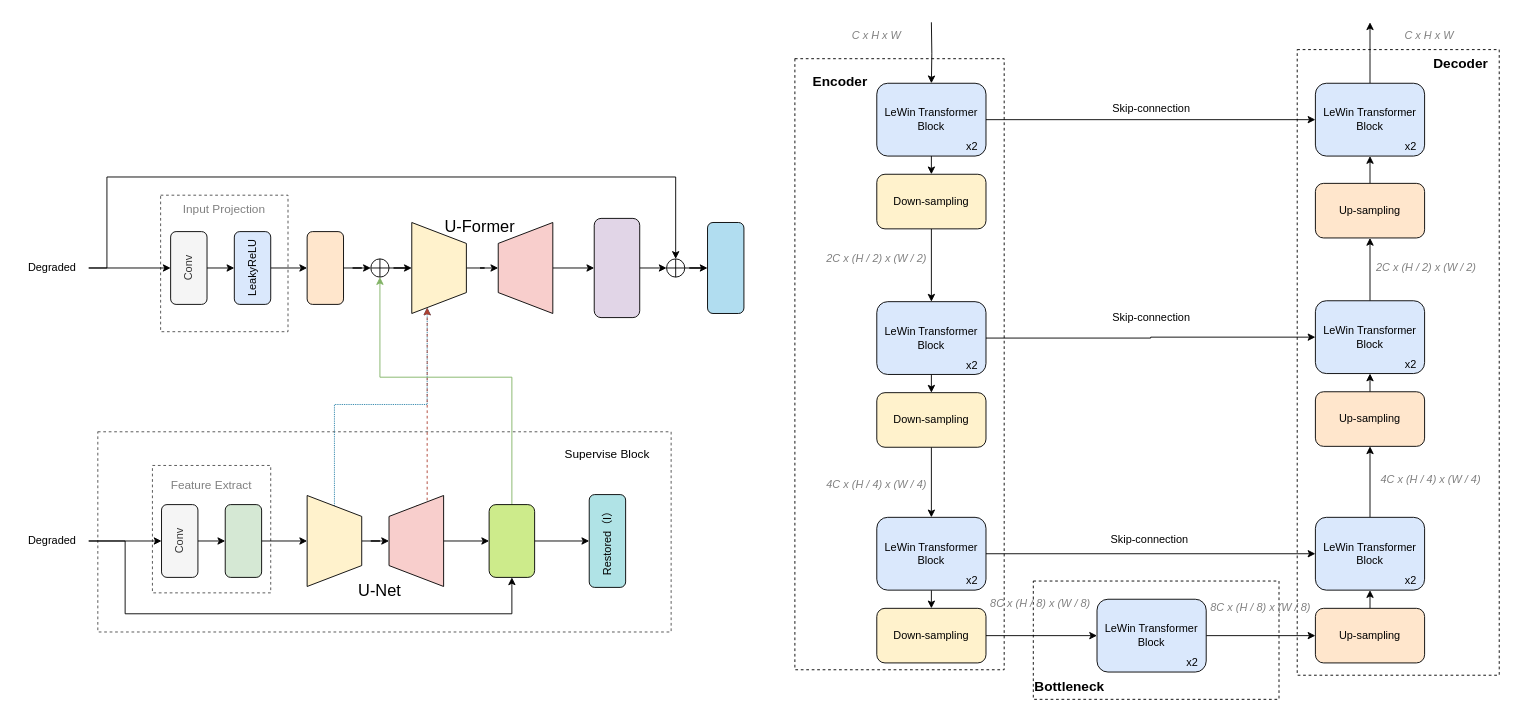
Some shapes in this 1515 by 724 pixel diagram are drawn without their labels. Each missing label, with the centre of its shape:
"CAB" belongs at (243,540).
"Out Projection" belongs at (616,267).
"PosDrop" belongs at (325,267).
"Restored（II）" belongs at (725,267).
"SAM" belongs at (511,540).
